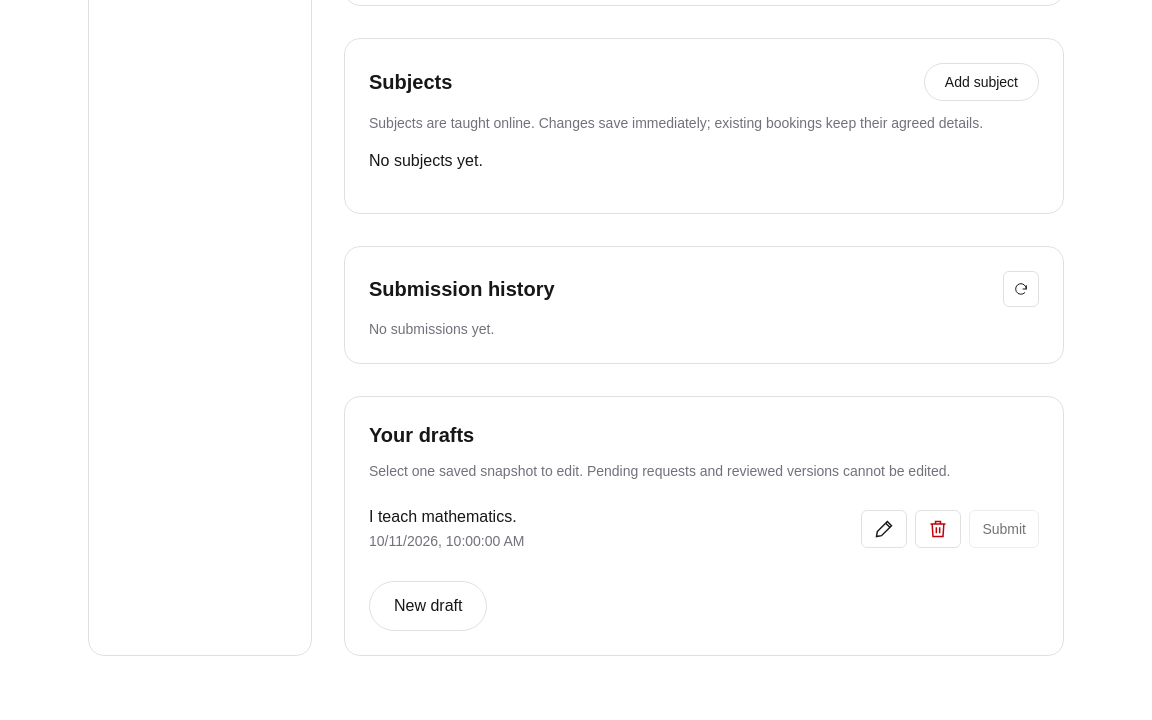
loads saved draft fields, keeps account names separate, and requires changes
(page scrolled)
Click the button named "Edit draft " at {"x": 884, "y": 529}, box [861,510,907,548]
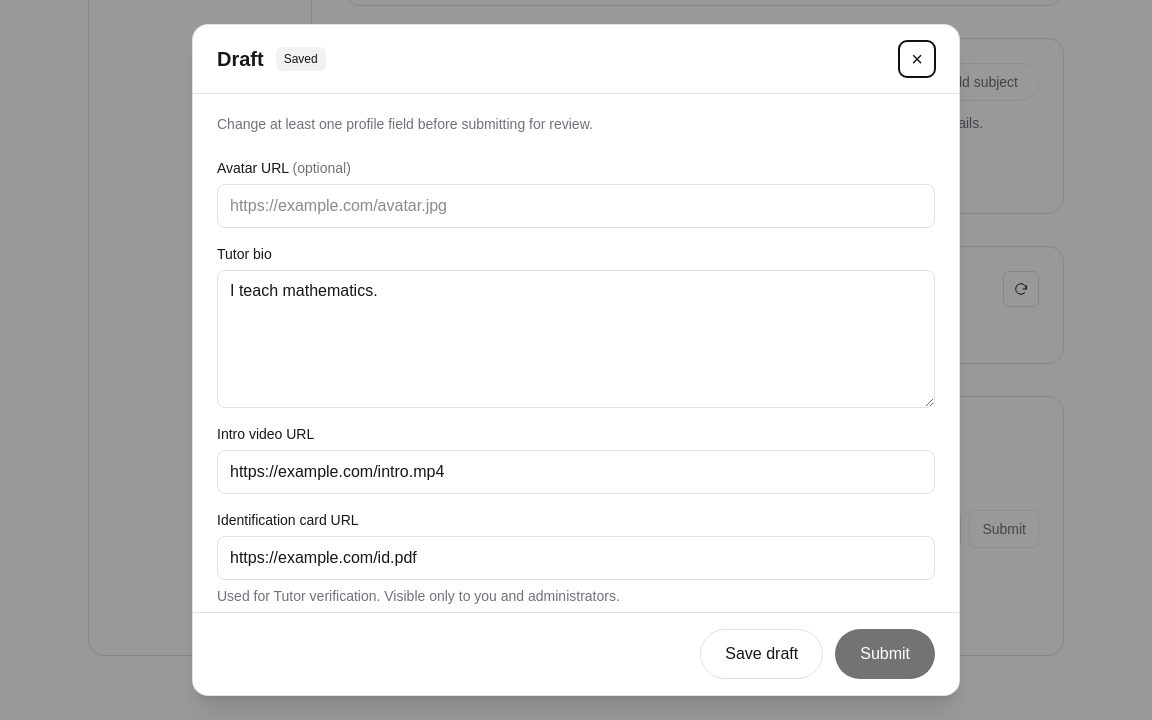
Now the text box labelled "Tutor bio" holds "I teach mathematics."
Now the button "Submit" is disabled, box [835,629,935,679]
Replace the text in the text box labelled "Tutor bio" with "A changed bio." at {"x": 576, "y": 339}, box [217,270,935,408]
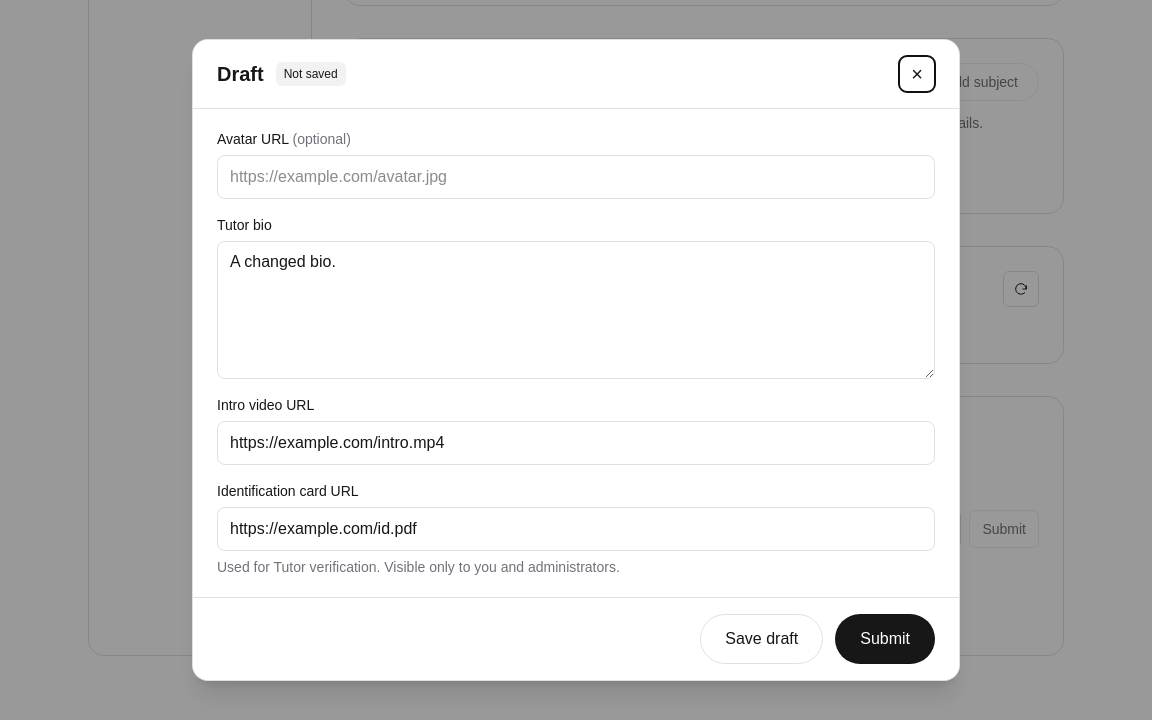
Now the button "Submit" is enabled, box [835,614,935,664]
